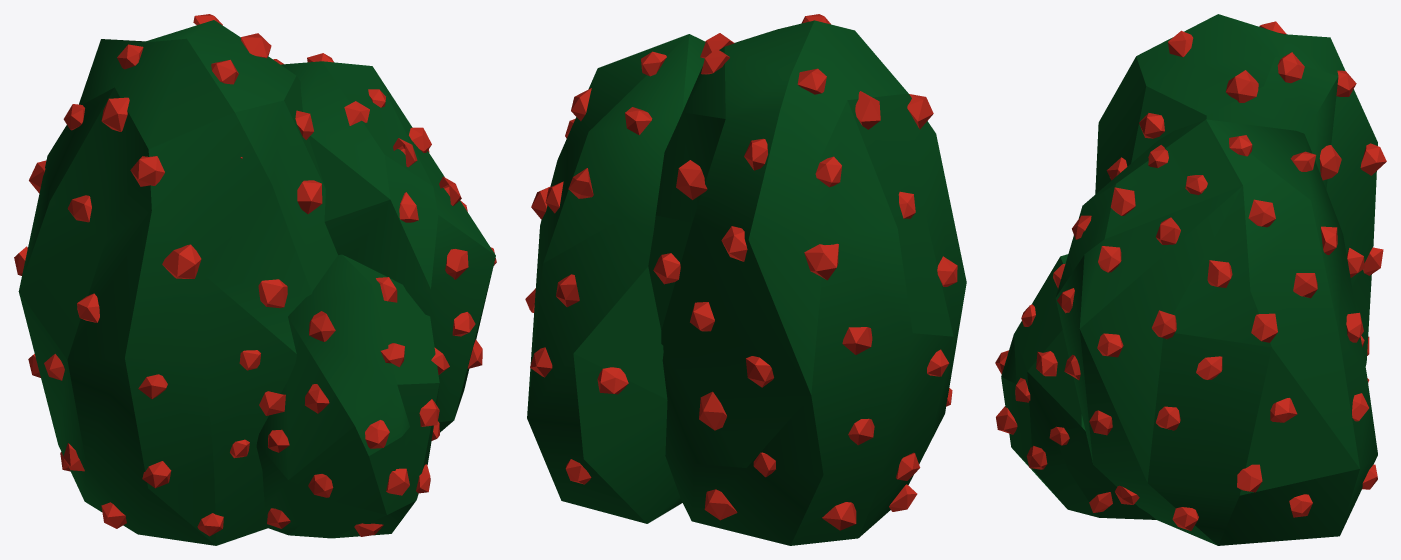
File: Bush_2_WF.fbx
The picture shows the model from 3 angles, left to right: view 1: azimuth 30°, elevation 25°; view 2: azimuth 150°, elevation 25°; view 3: azimuth 270°, elevation 25°; orthographic projection. The views are drawn at different scales.
Parts seen in each view (by area): view 1: Bush_2_WF; view 2: Bush_2_WF; view 3: Bush_2_WF.
Boxes of the visible parts, x1,y1,x2,y2 form: Bush_2_WF: (14,14,496,545); Bush_2_WF: (525,14,966,545); Bush_2_WF: (995,14,1386,545).
Size of the model in its own units: 48.43 by 54.91 by 44.46.
